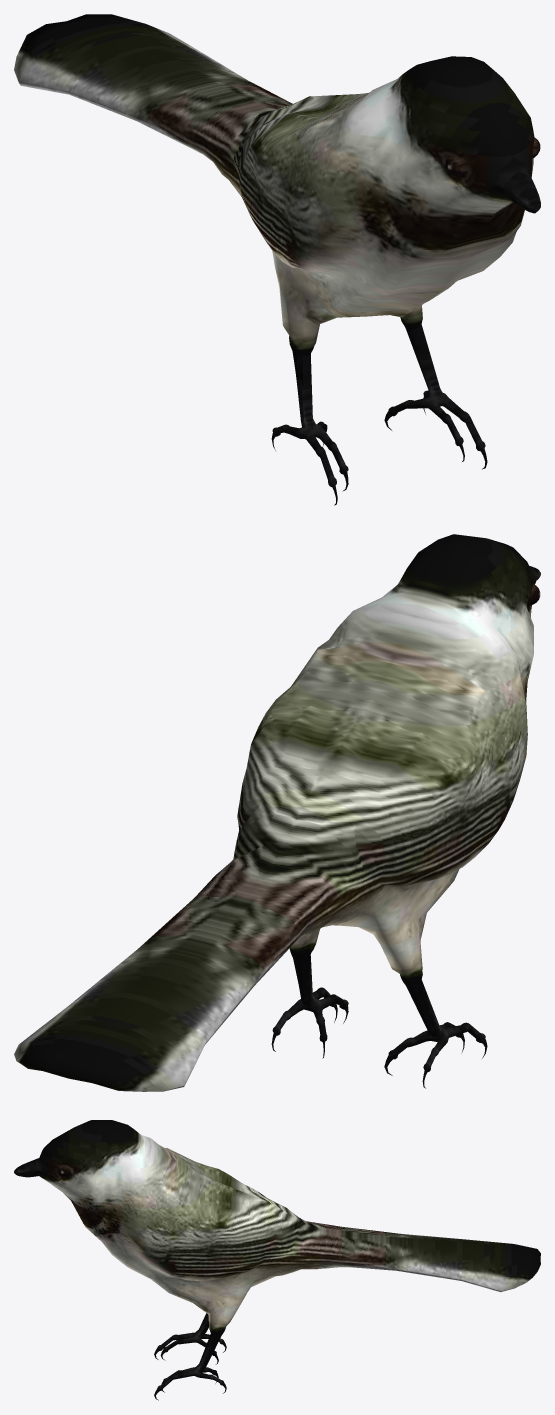
The model's file is magpie.glb.
3 renders of one model, top to bottom at view 1: azimuth 30°, elevation 25°; view 2: azimuth 150°, elevation 25°; view 3: azimuth 270°, elevation 25°, orthographic. The views are drawn at different scales.
Parts seen in each view (by area): view 1: chickadee_; view 2: chickadee_; view 3: chickadee_.
Boxes of the visible parts, left/top/right/bottom form: chickadee_: left=14, top=14, right=540, bottom=505; chickadee_: left=14, top=534, right=540, bottom=1091; chickadee_: left=14, top=1120, right=540, bottom=1400.
Size of the model in its own units: 0.0548 by 0.1084 by 0.2005.
1 material, 1 textured.
